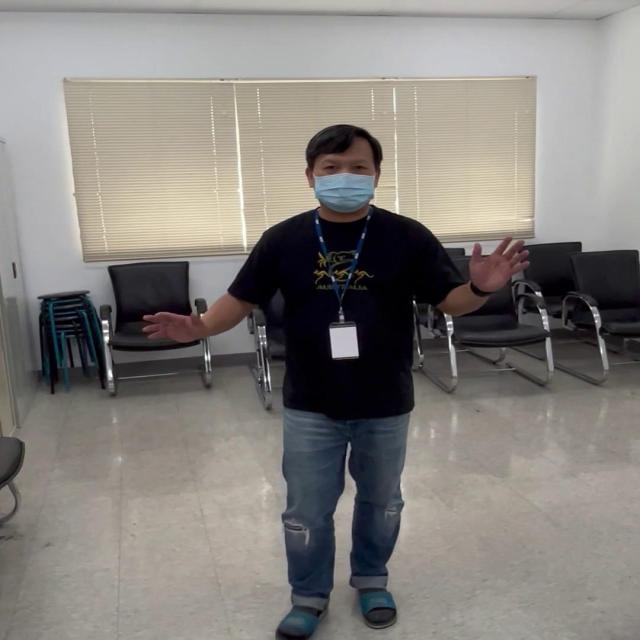bare_hand: (468, 233, 530, 295), (138, 304, 203, 346)
